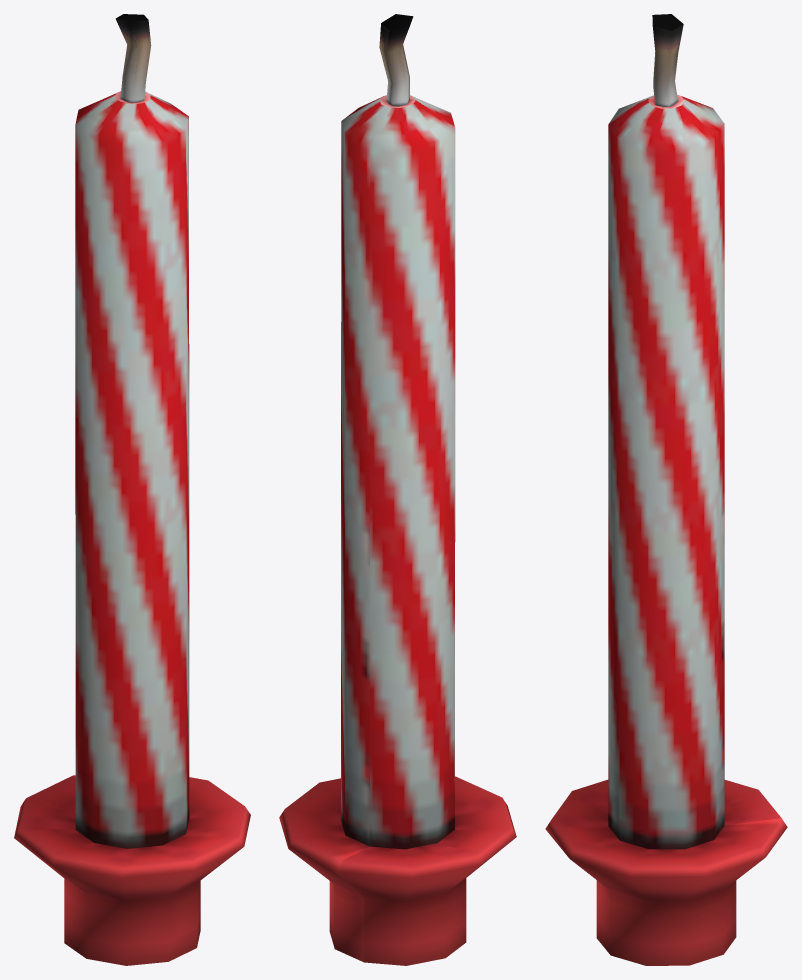
Rendered from candle.obj.
3 views of the same model, side by side, from view 1: azimuth 30°, elevation 25°; view 2: azimuth 150°, elevation 25°; view 3: azimuth 270°, elevation 25° (orthographic).
Visible parts, largest first — view 1: submesh_0; view 2: submesh_0; view 3: submesh_0.
Part boxes in pixels (left/top/right/bottom): submesh_0: left=14, top=14, right=250, bottom=965; submesh_0: left=279, top=14, right=516, bottom=965; submesh_0: left=545, top=14, right=787, bottom=965.
Bounding box in the file's own units: 0.3179 × 1.39 × 0.3323.
Materials: 1 (1 with a texture image).
